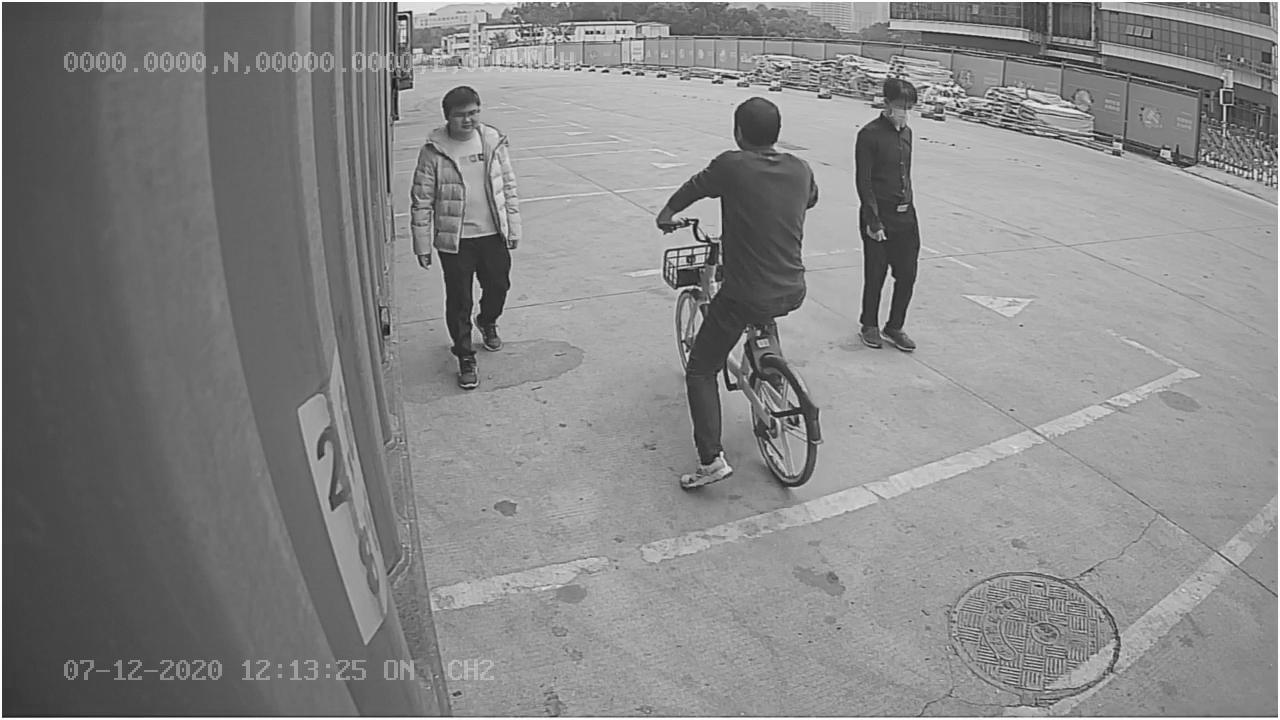person: (408, 85, 525, 391), (847, 71, 930, 353)
